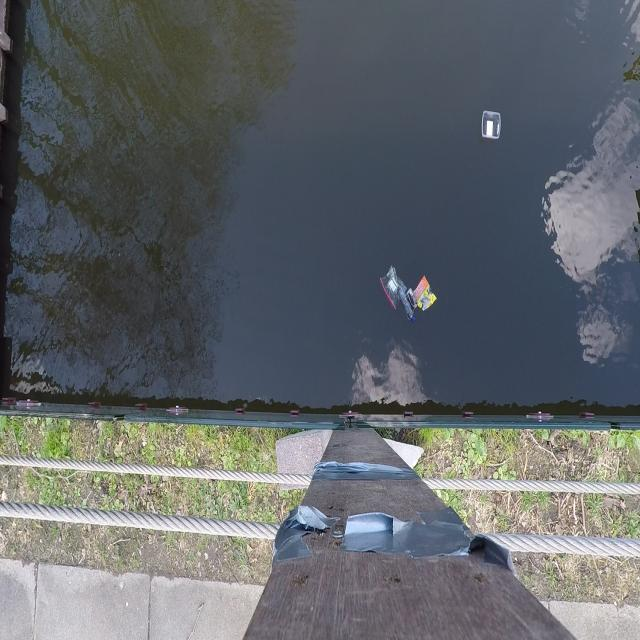Autre plastique: (478, 106, 506, 146), (418, 275, 438, 316)
Sac plastique: (372, 253, 407, 315)
